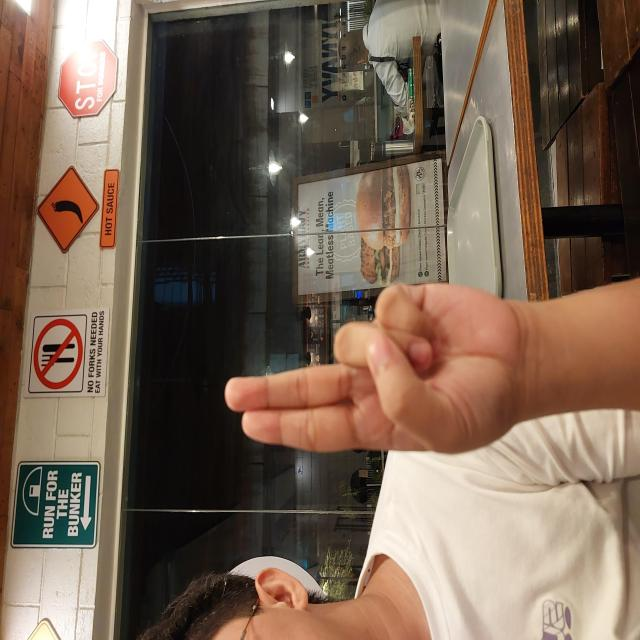U: (180, 224, 359, 527)
